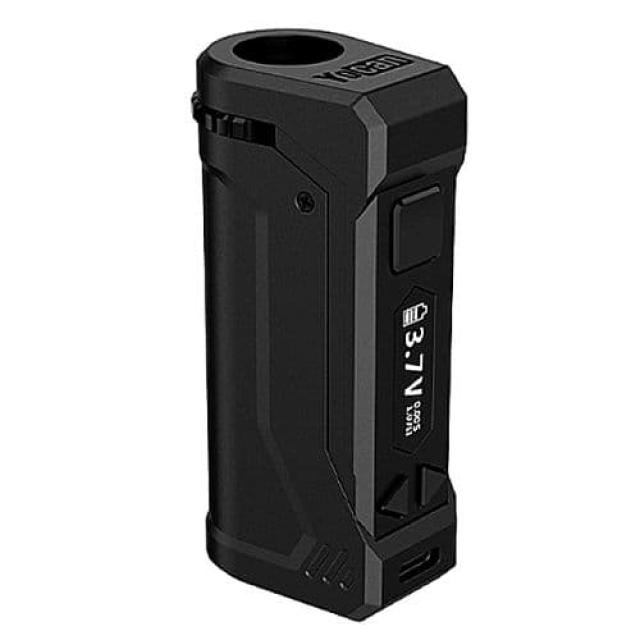Hazard: (190, 26, 468, 622)
